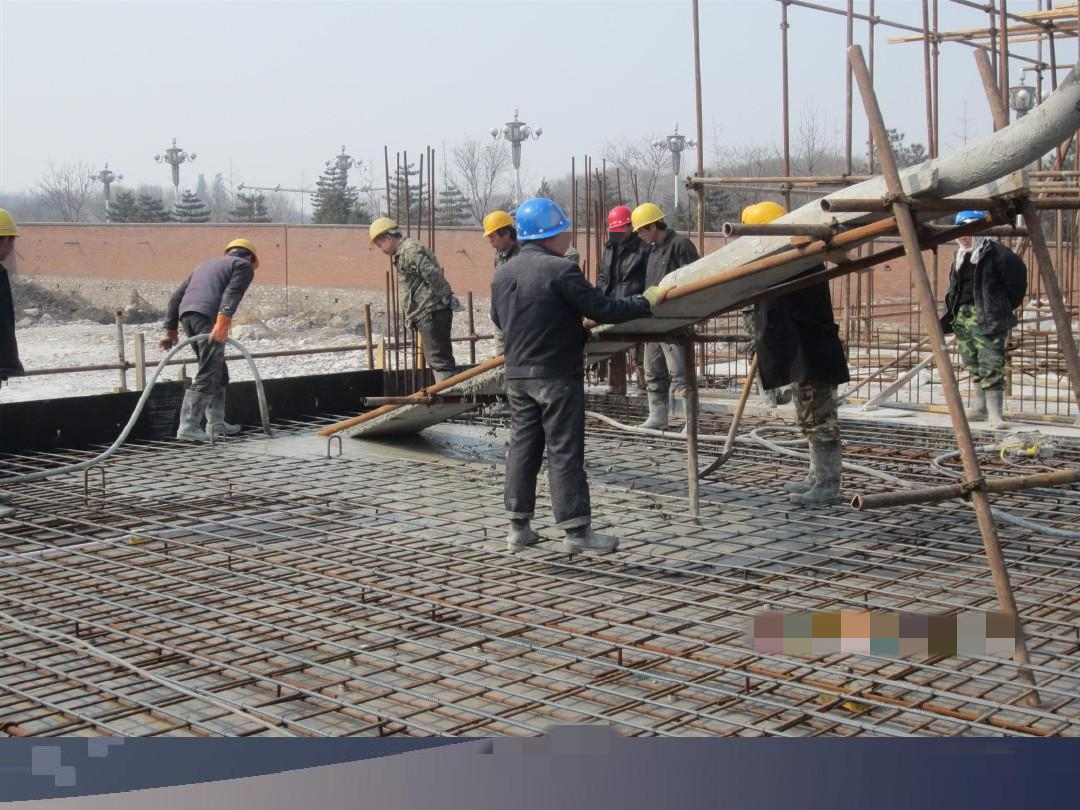helmet: (517, 198, 572, 241), (745, 200, 787, 225), (632, 202, 666, 230), (368, 217, 400, 246), (483, 211, 517, 238), (224, 238, 259, 264), (607, 205, 632, 230), (954, 208, 985, 225), (1, 208, 17, 236)
person: (489, 196, 677, 558), (737, 198, 849, 508), (158, 235, 261, 443), (943, 208, 1029, 432), (366, 214, 465, 384), (631, 200, 700, 443), (593, 203, 647, 397), (1, 199, 18, 404), (478, 210, 523, 259)
